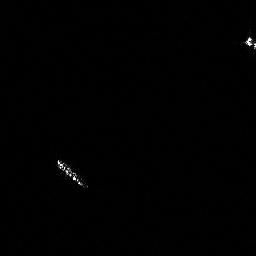ship: (53, 154, 93, 191)
